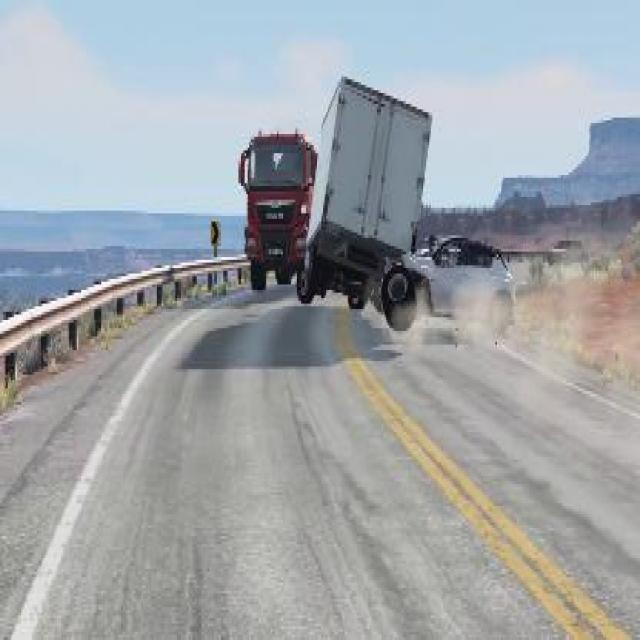accident: (290, 66, 518, 328)
